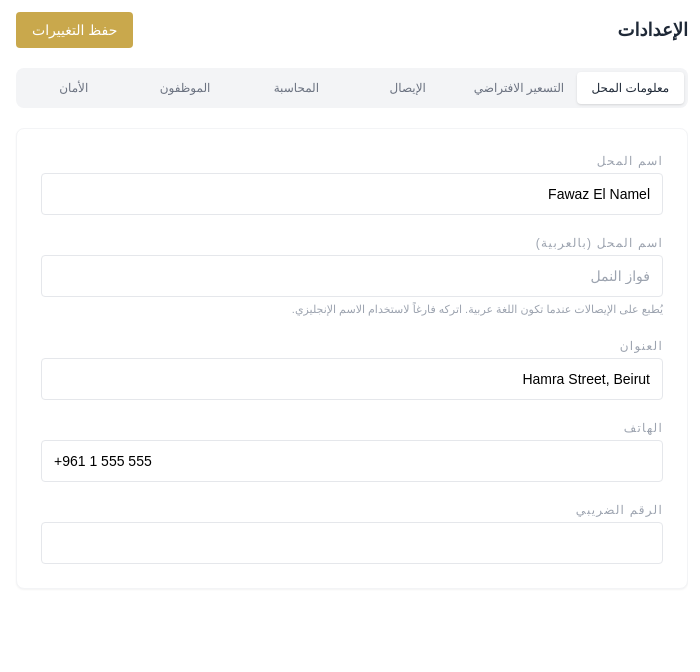
Scenario: settings › Save Changes says when it fails (NEX-64) › the server's own reason is shown as sent
The width and height of the screenshot is (700, 672).
Click the button "حفظ التغييرات".
click(75, 30)  # box [16,12,133,48]
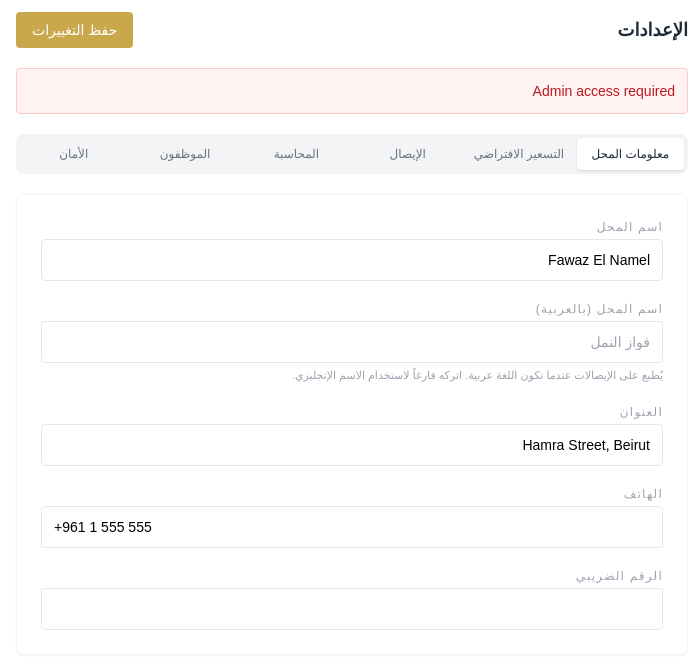
Expected: the message reads "Admin access required", [533,83,675,99]
